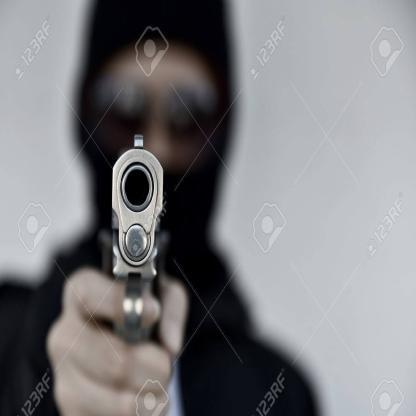gun: (92, 122, 179, 297)
